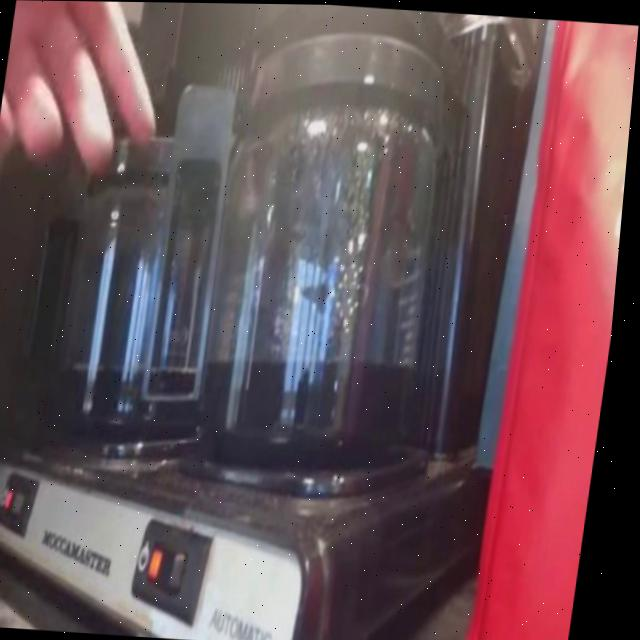coffee: (193, 134, 451, 463), (54, 193, 226, 439)
